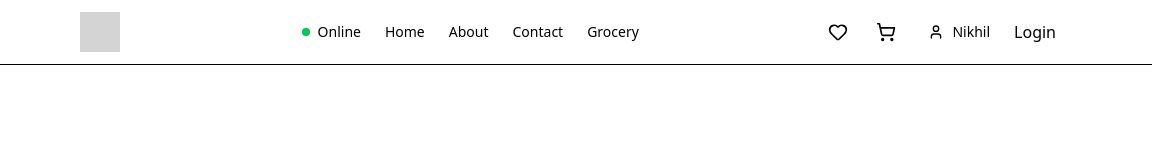
it: Should render header component with a logout button when login button clicked
This screenshot has width=1152, height=160.
Click the button "Login".
click(1035, 32)  # box [1014,20,1056,44]
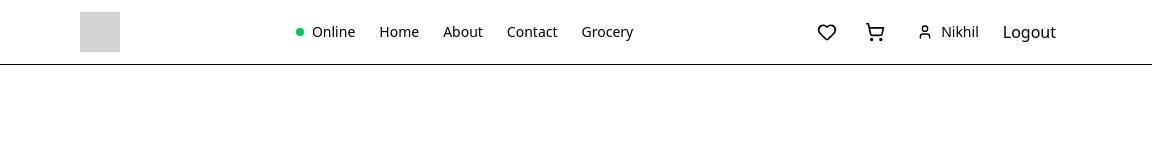
Expected: the button "Logout" is shown, [1003,20,1056,44]
